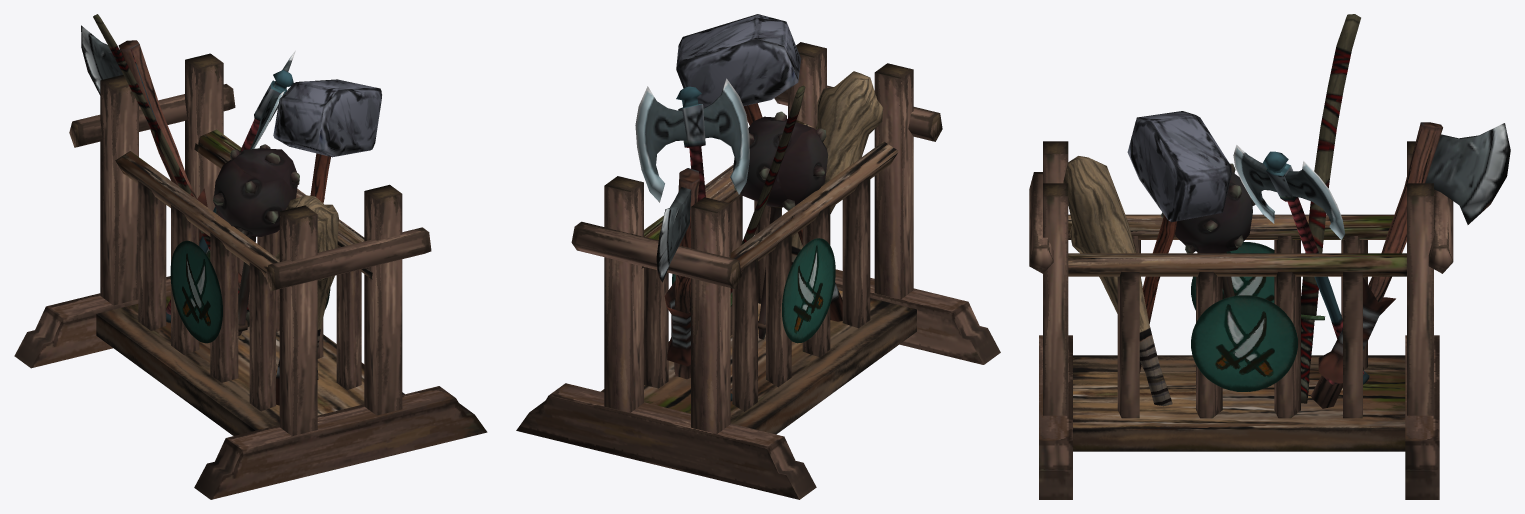
Rendered from PRP_WeaponRack.FBX.
3 views of the same model, side by side, from view 1: azimuth 30°, elevation 25°; view 2: azimuth 150°, elevation 25°; view 3: azimuth 270°, elevation 25° (orthographic). The views are drawn at different scales.
Parts seen in each view (by area): view 1: PRP_WeaponRack; view 2: PRP_WeaponRack; view 3: PRP_WeaponRack.
Part boxes in pixels (left/top/right/bottom): PRP_WeaponRack: left=14, top=14, right=487, bottom=499; PRP_WeaponRack: left=516, top=14, right=1000, bottom=499; PRP_WeaponRack: left=1029, top=14, right=1510, bottom=499.
Size of the model in its own units: 190 by 238 by 281.
1 material, 1 textured.
